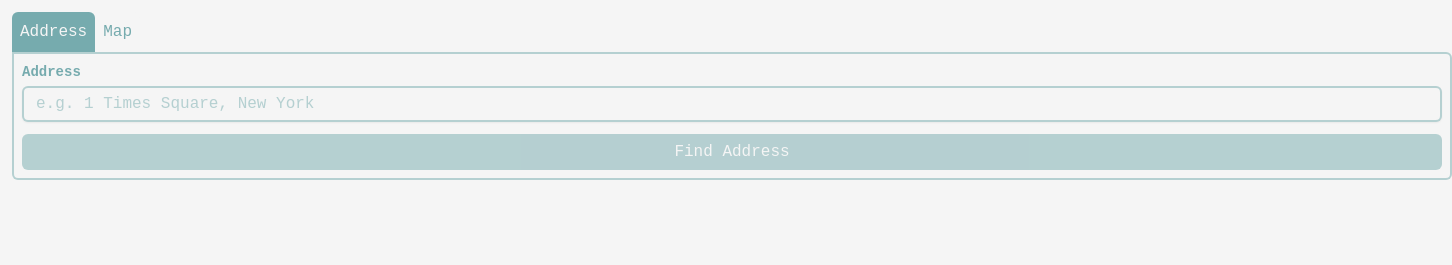
Test: LocationPicker address tab › confirms which address was matched
Step 1. Type "Times Square" into the field labelled "Address" → (732, 104), box x1=22 y1=86 x2=1442 y2=122
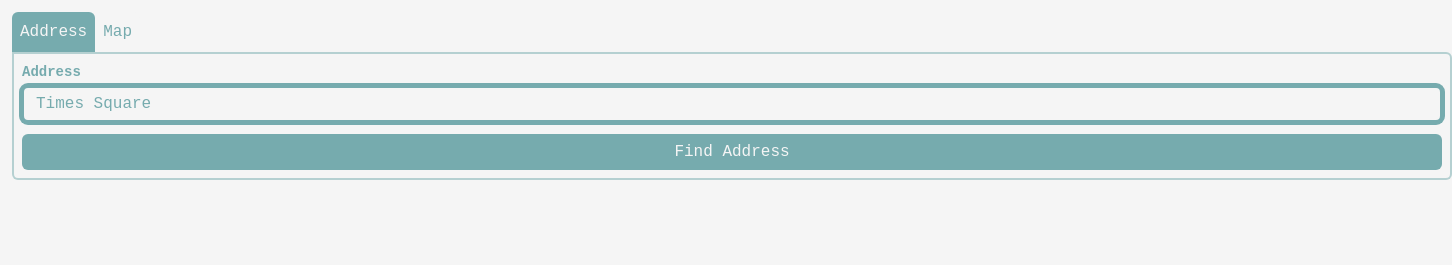
Step 2. Click the button "Find Address" → (732, 152), box x1=22 y1=134 x2=1442 y2=170
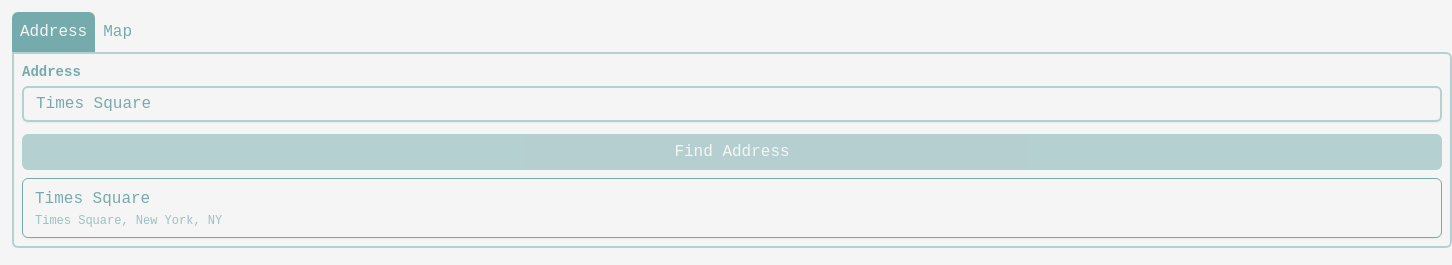
Step 3. Click the button "Times Square Times Square, New York, NY" → (93, 199), box x1=22 y1=178 x2=1442 y2=238
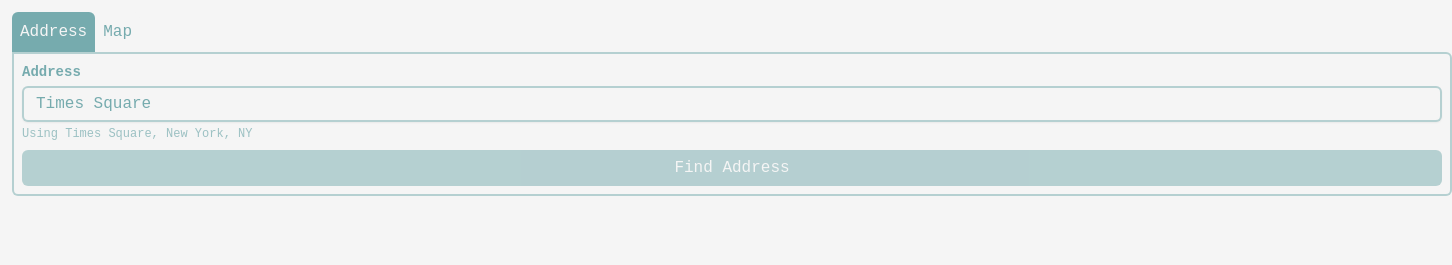
Now the text "Using Times Square, New York, NY" is shown, box x1=22 y1=127 x2=252 y2=141
